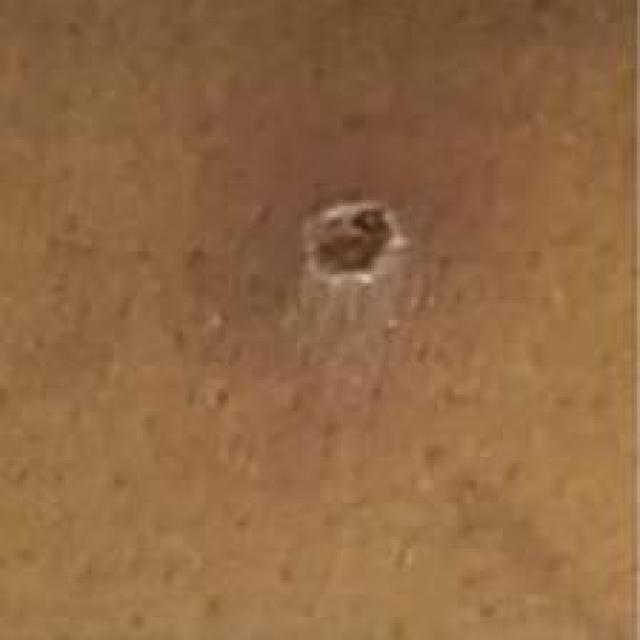monkeypox: (150, 106, 640, 509)
